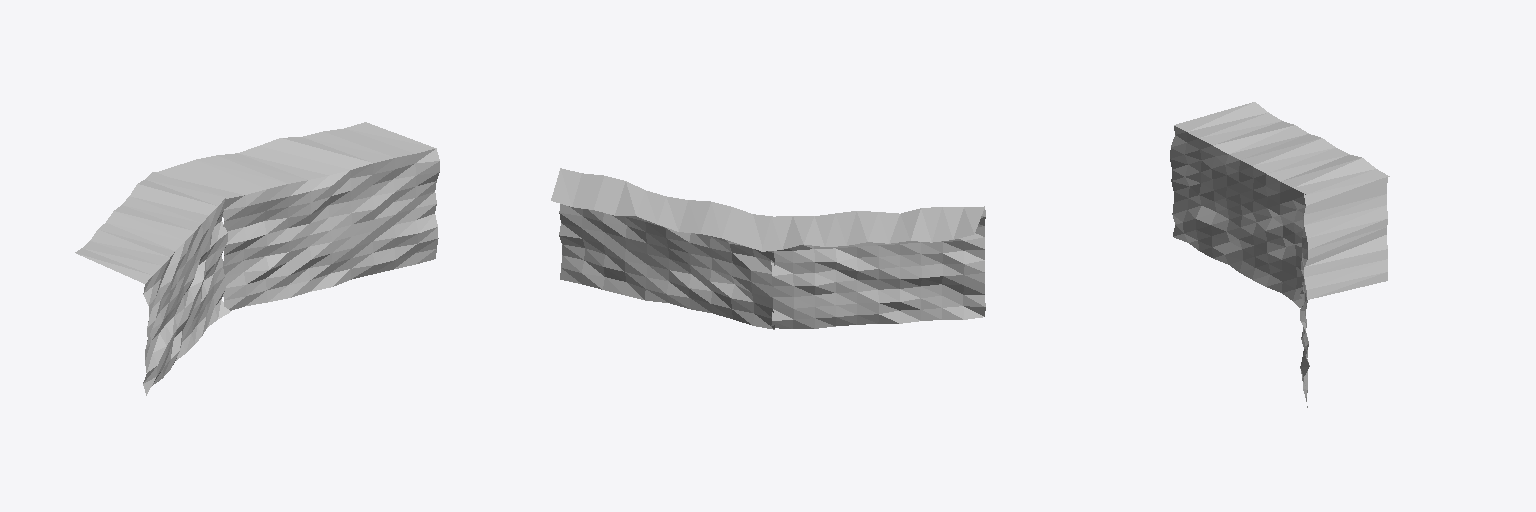
File: CliffWallRemix.obj
The picture shows the model from 3 angles: view 1: azimuth 30°, elevation 25°; view 2: azimuth 150°, elevation 25°; view 3: azimuth 270°, elevation 25°; orthographic projection.
Parts seen in each view (by area): view 1: pPlane5, default, pPlane4; view 2: pPlane4, pPlane5, default; view 3: default, pPlane4, pPlane5.
Part boxes in pixels (x1,y1,x2,y2): pPlane5: (223,148,439,310); default: (75,122,435,283); pPlane4: (143,198,230,395); pPlane4: (771,209,985,328); pPlane5: (559,204,774,329); default: (551,168,984,251); default: (1174,102,1389,299); pPlane4: (1170,126,1305,307); pPlane5: (1300,211,1309,407).
Bounding box in the file's own units: 61.74 × 18.46 × 30.32.